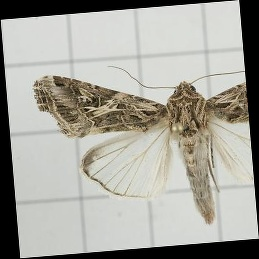Spodoptera litura: (37, 63, 251, 232)
